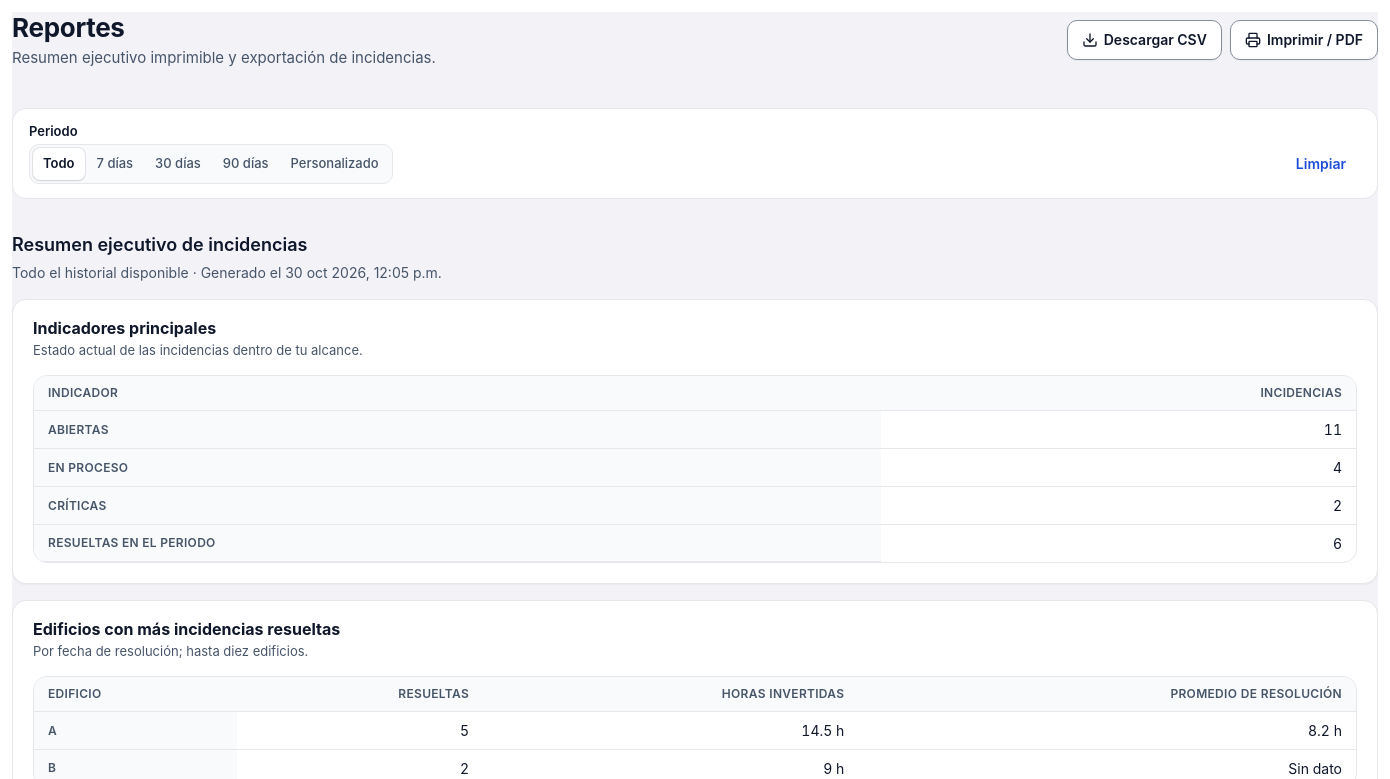
Reportes › valida el periodo y lo envía a todas las secciones
The width and height of the screenshot is (1390, 779).
Expected: the table named "Indicadores principales" is shown, x1=34 y1=376 x2=1356 y2=562
Click the button "Personalizado": (335, 164) x1=281 y1=148 x2=389 y2=180
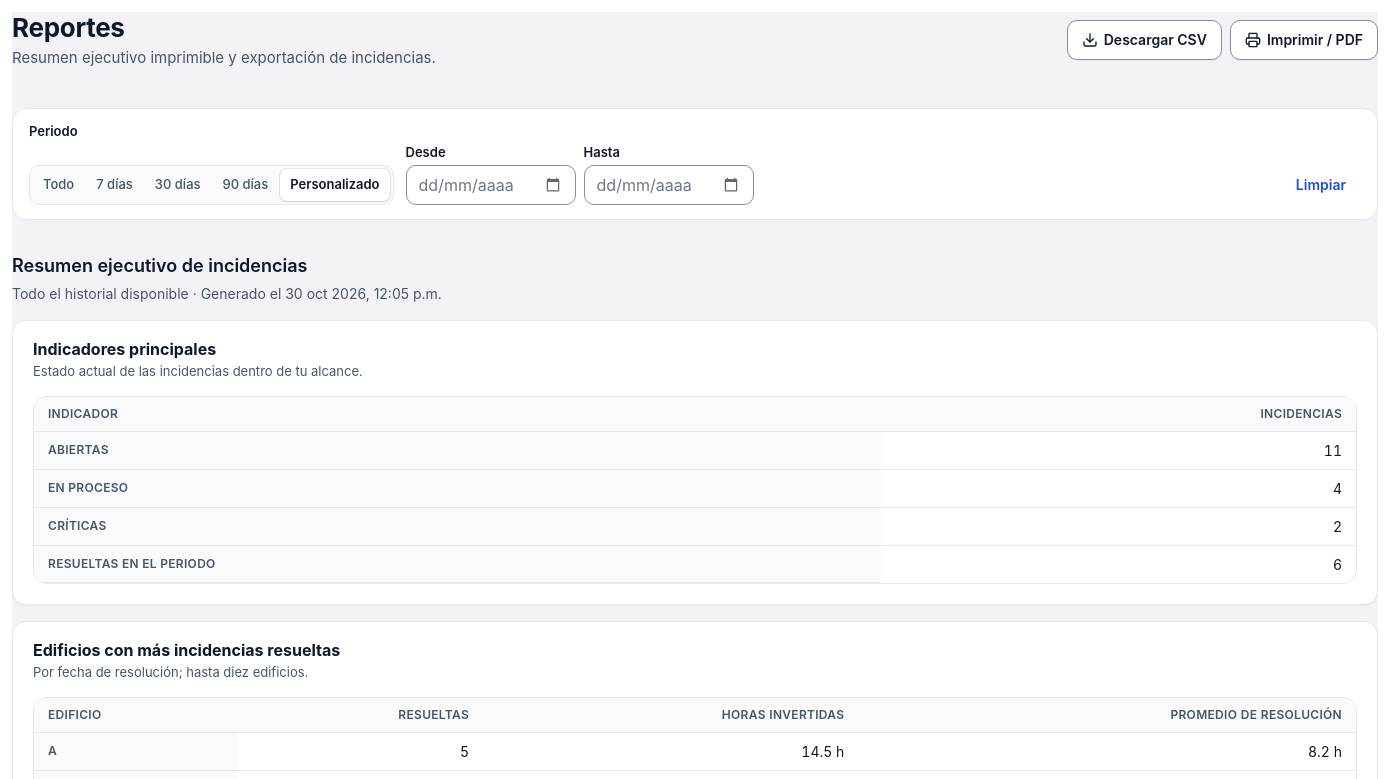
In the date field labelled "Desde": (490, 185) x1=406 y1=165 x2=576 y2=205, type "2026-10-20"
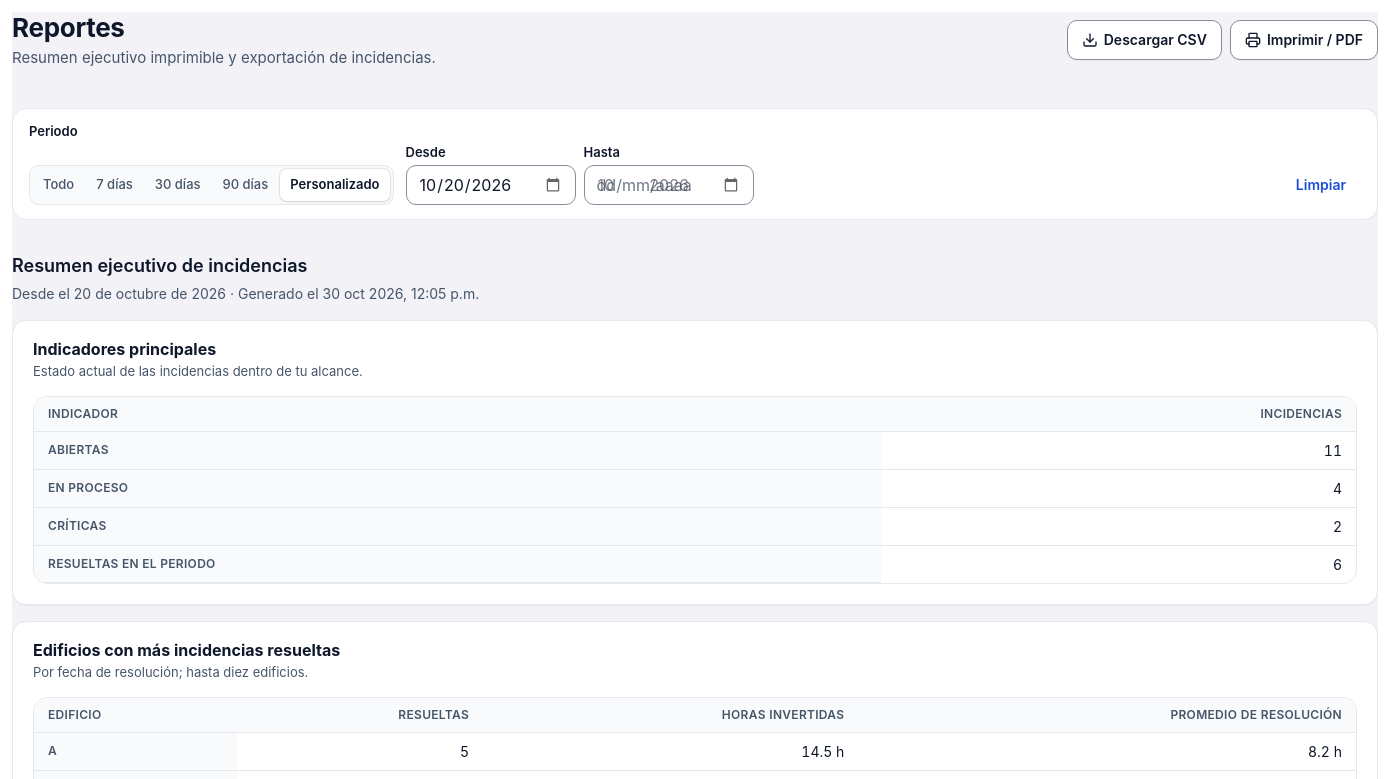
In the date field labelled "Hasta": (668, 185) x1=584 y1=165 x2=754 y2=205, type "2026-10-01"
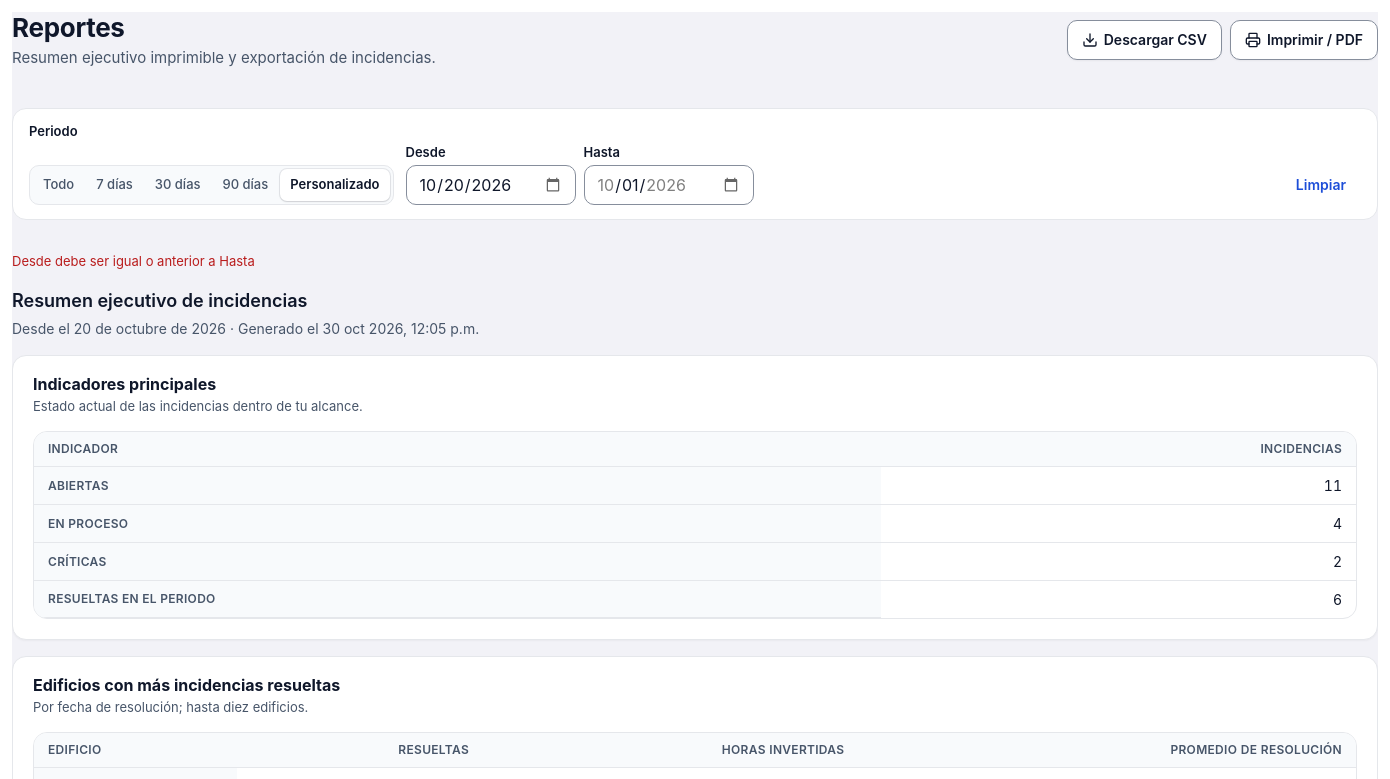
Expected: the text "Desde debe ser igual o anterior a Hasta" is shown, x1=12 y1=253 x2=255 y2=269
In the date field labelled "Hasta": (668, 185) x1=584 y1=165 x2=754 y2=205, type "2026-10-31"
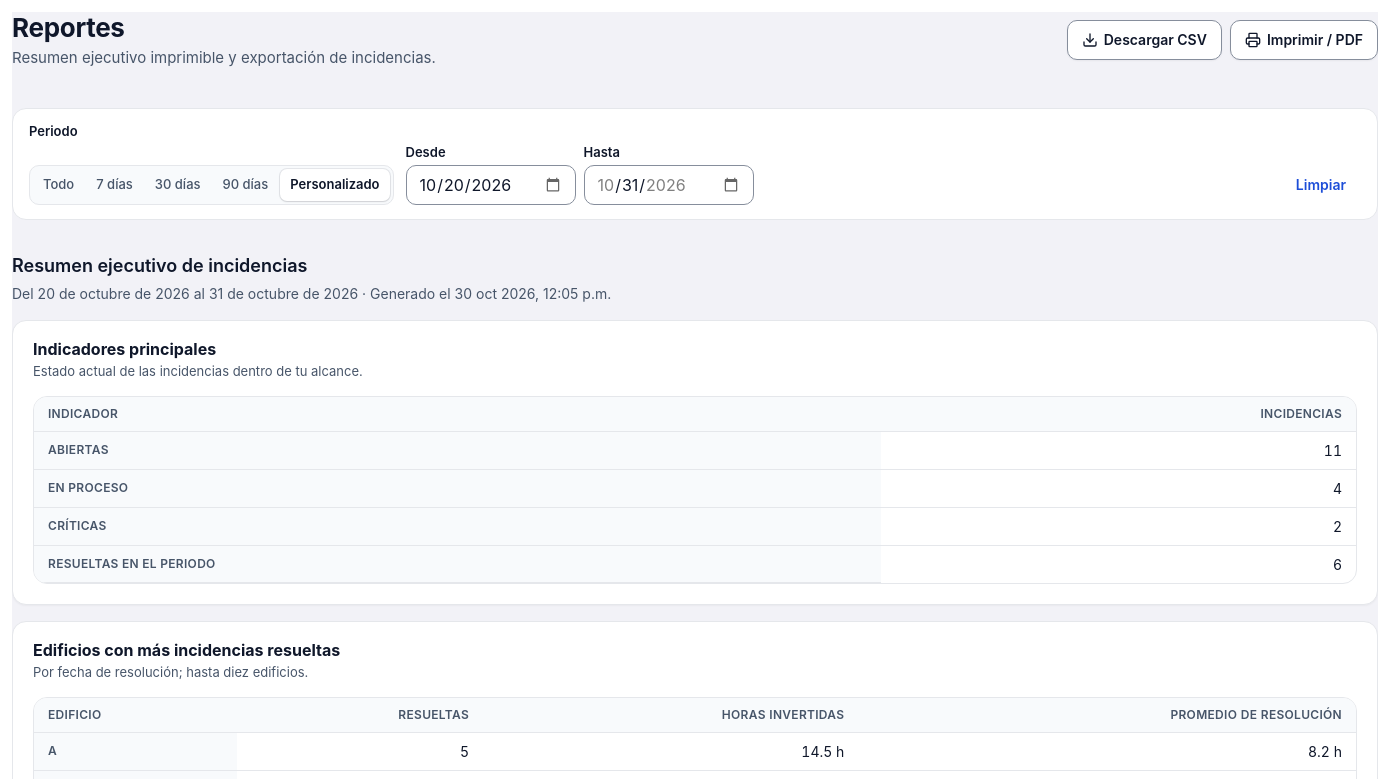
Expected: the text "Del 20 de octubre de 2026 al 31 de octubre de 2026" is shown, x1=12 y1=285 x2=358 y2=302
